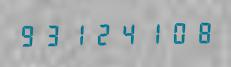eight: (185, 18, 208, 45)
four: (113, 20, 136, 46)
nine: (17, 21, 40, 48)
one: (65, 20, 88, 47), (137, 19, 160, 46)
three: (41, 21, 64, 47)
two: (89, 20, 112, 47)
zero: (161, 19, 184, 45)
